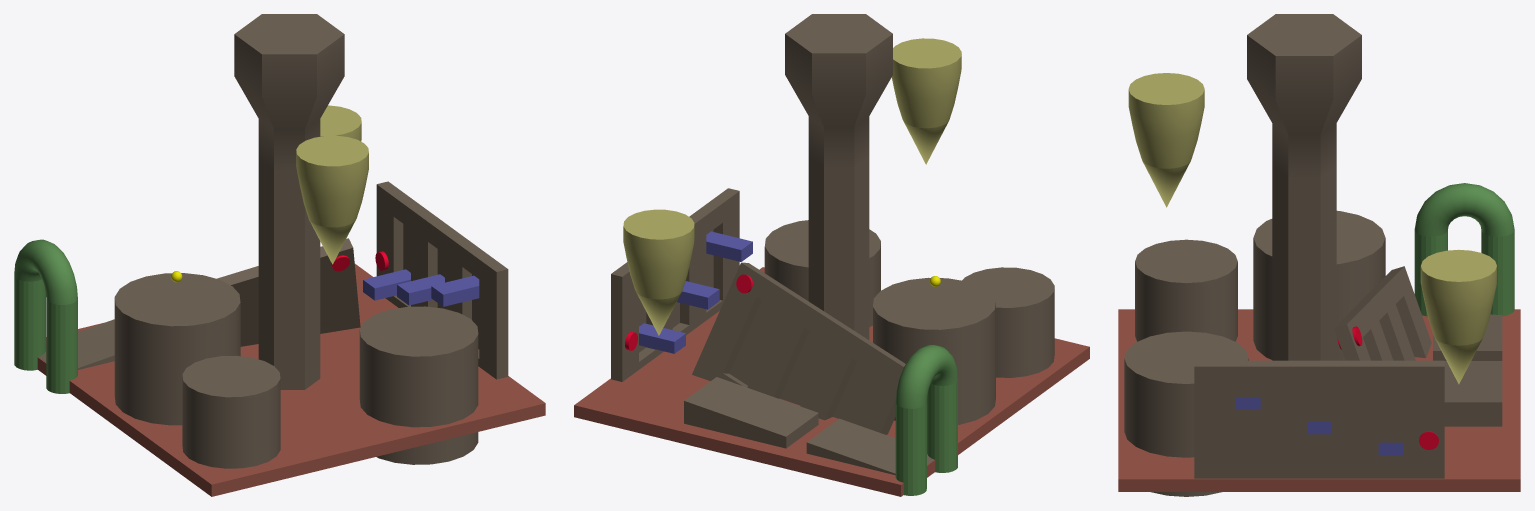
Rendered from Ranger_TestLevel_Build002.fbx.
3 renders of one model, left to right at view 1: azimuth 30°, elevation 25°; view 2: azimuth 150°, elevation 25°; view 3: azimuth 270°, elevation 25°, orthographic. The views are drawn at different scales.
Parts seen in each view (by area): view 1: GroundWalls, LavaFloor, FallingPlatform_2, FallingPlatform_1, MovingPlatform_3, MovingPlatform_1, MovingPlatform_2; view 2: GroundWalls, LavaFloor, FallingPlatform_1, FallingPlatform_2, MovingPlatform_3, MovingPlatform_1, MovingPlatform_2; view 3: GroundWalls, LavaFloor, FallingPlatform_1, FallingPlatform_2.
Boxes of the visible parts, x1,y1,x2,y2 form: GroundWalls: (14, 14, 508, 468); LavaFloor: (37, 263, 545, 496); FallingPlatform_2: (296, 135, 368, 264); FallingPlatform_1: (320, 105, 361, 141); MovingPlatform_3: (431, 275, 479, 306); MovingPlatform_1: (363, 269, 410, 300); MovingPlatform_2: (397, 274, 444, 305); GroundWalls: (611, 14, 1054, 495); LavaFloor: (574, 267, 1089, 496); FallingPlatform_1: (623, 209, 694, 335); FallingPlatform_2: (891, 38, 961, 164); MovingPlatform_3: (706, 231, 752, 261); MovingPlatform_1: (639, 323, 685, 353); MovingPlatform_2: (677, 281, 719, 309); GroundWalls: (1124, 14, 1514, 496); LavaFloor: (1118, 309, 1520, 491); FallingPlatform_1: (1420, 249, 1496, 384); FallingPlatform_2: (1128, 73, 1204, 207).
Size of the model in its own units: 120 by 130 by 116.
